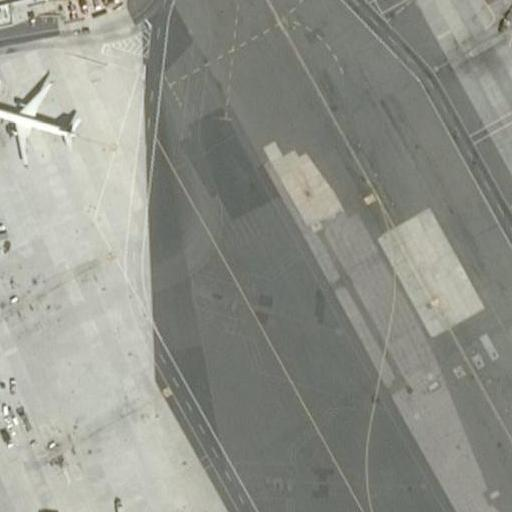Aircraft: (0, 74, 75, 156)
